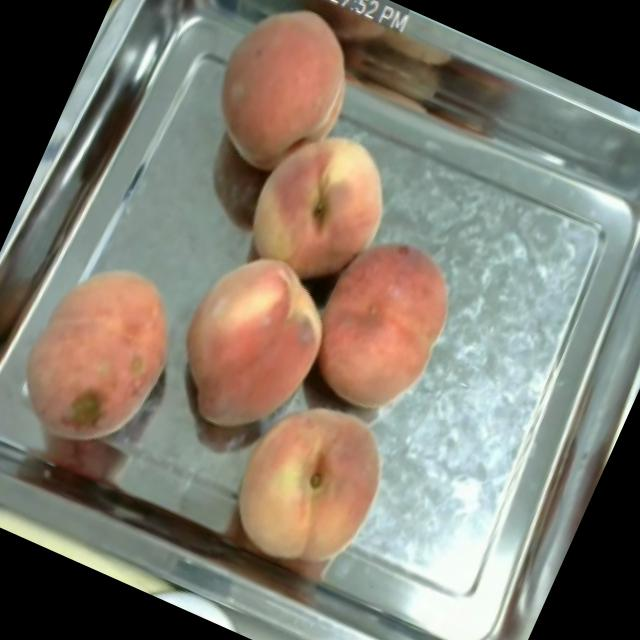Fruit: (0, 230, 207, 478), (147, 229, 357, 461), (204, 375, 414, 594), (282, 215, 478, 436), (182, 0, 384, 200), (225, 103, 418, 310)
